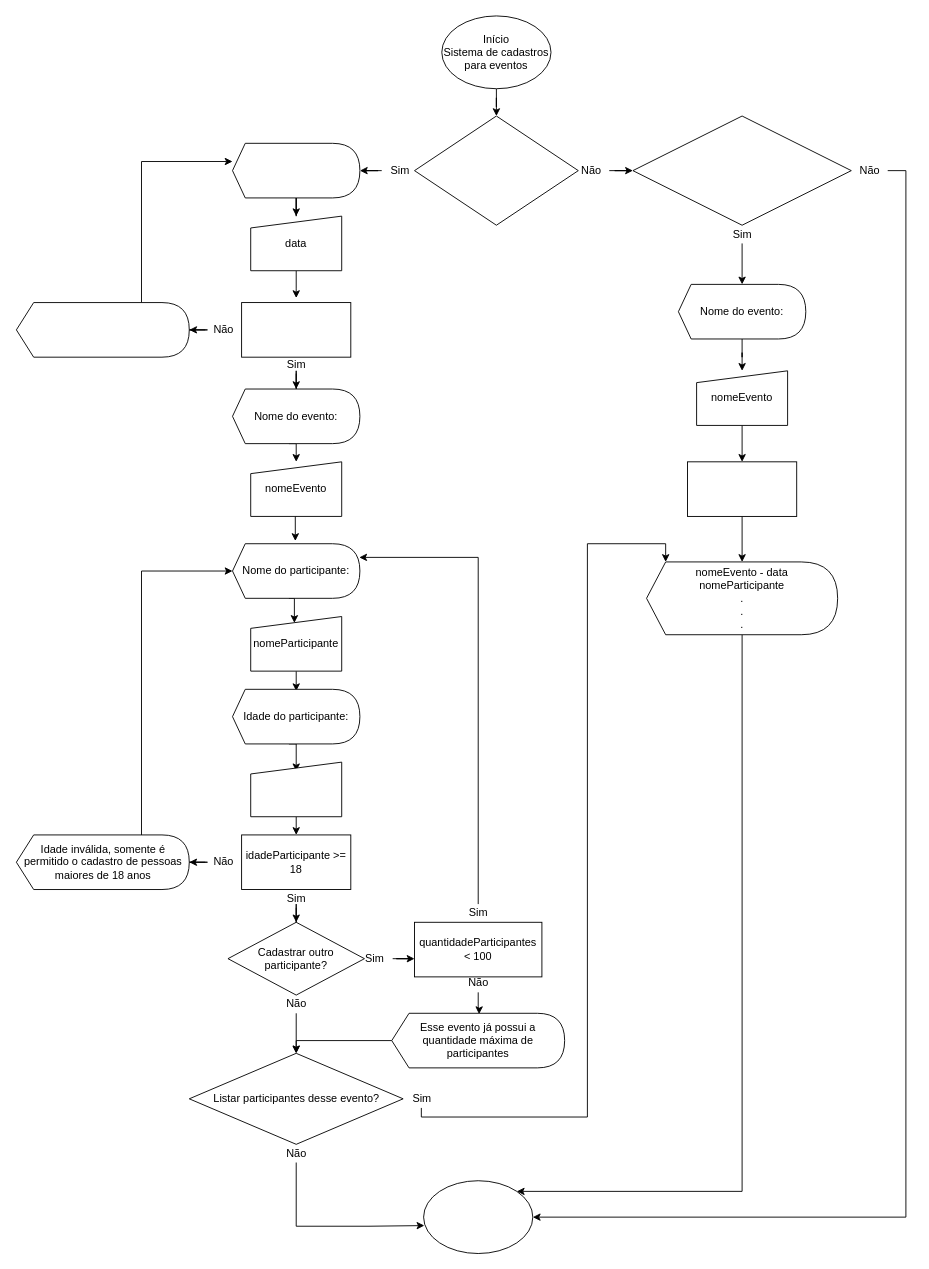
This 929x1269 diagram has some shape labels left out. Here are the shapes that lost their labels. From the top down, the centre of each, then its label:
At (x=296, y=170): "Qual a data do evento:".
At (x=496, y=170): "Você deseja cadastrar um evento?".
At (x=741, y=170): "Você deseja ver um evento e sua lista de participantes?".
At (x=102, y=329): "Data inválida, não é possível realizar o cadastro".
At (x=296, y=329): "data > dataHoje".
At (x=742, y=488): "buscaEvento".
At (x=296, y=789): "idadeParticipante".
At (x=478, y=1217): "Fim".
